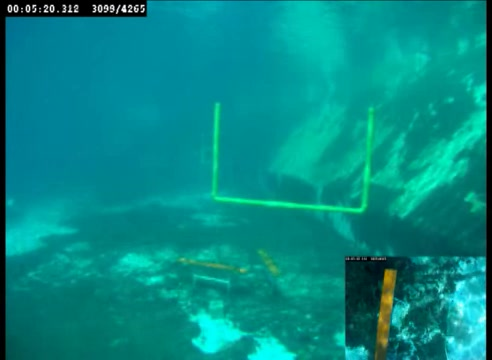channel: (204, 99, 381, 218)
